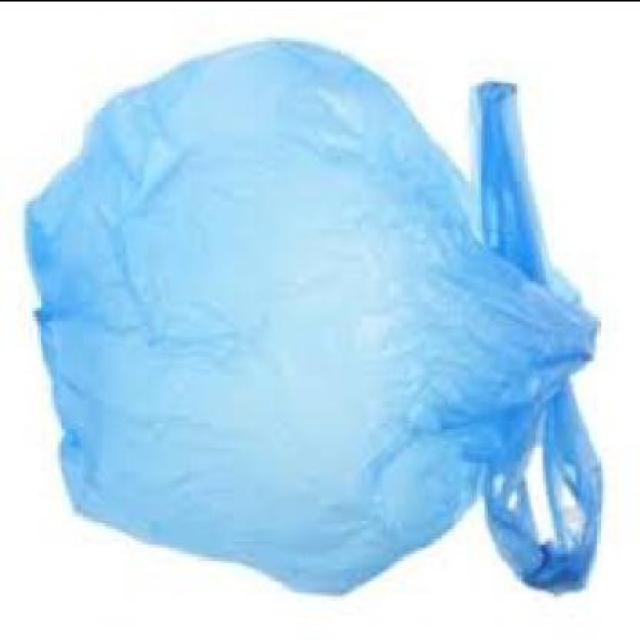PLASTIC: (27, 40, 605, 600)
